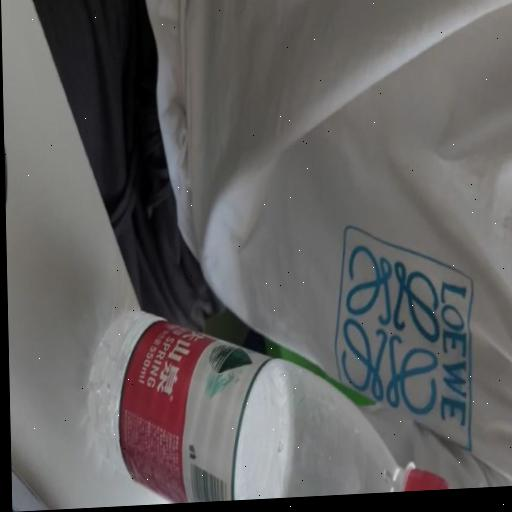bottle: (39, 269, 468, 510)
